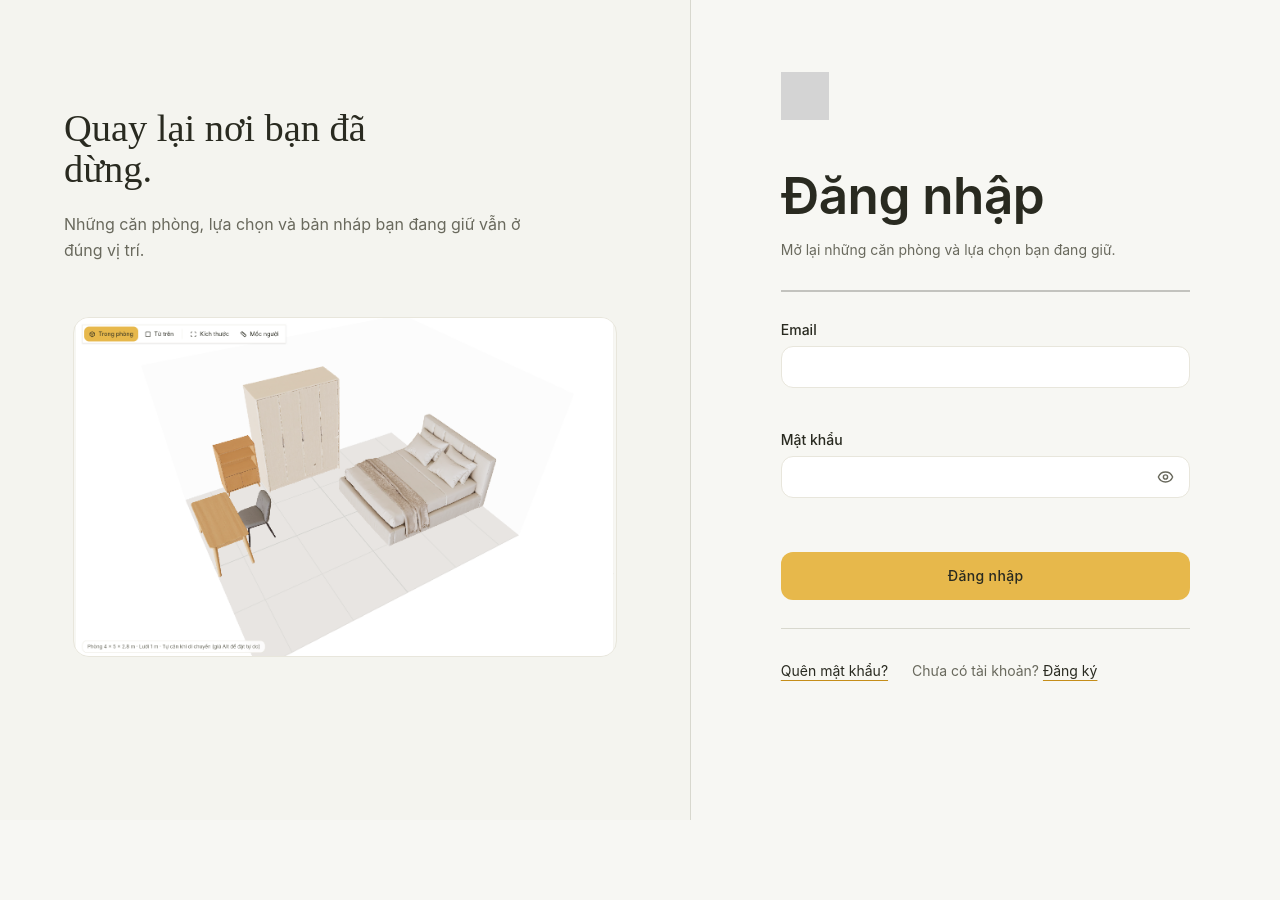
Test: LoginPage › shows a distinct message for wrong credentials (401)
Type "bao@example.com" into the field labelled "Email". click: (986, 367)
box: [781,346,1190,388]
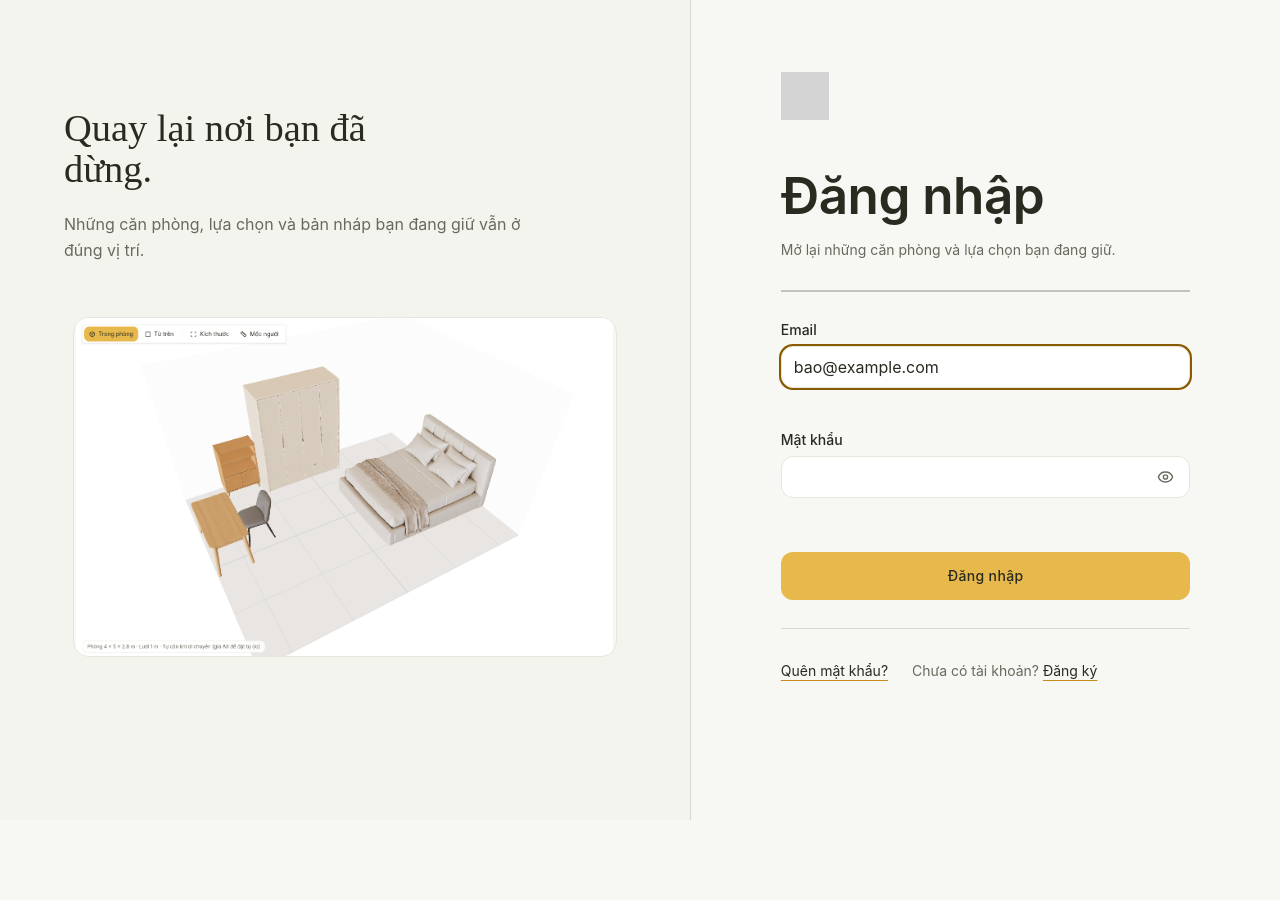
Type "wrongpass" into the password field labelled "Mật khẩu". click: (986, 477)
box: [781,456,1190,498]
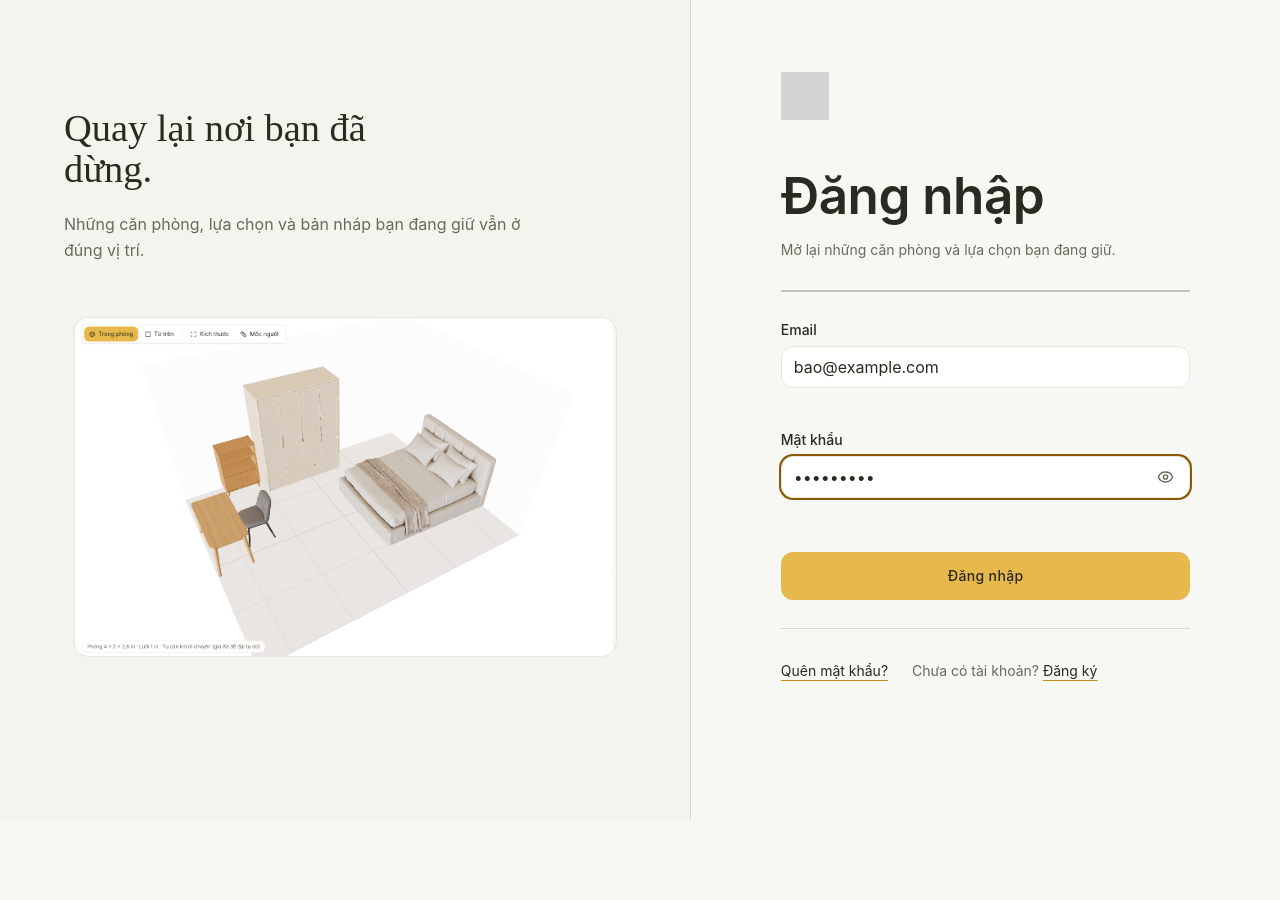
Click the button "Đăng nhập". click: (986, 576)
box: [781,552,1190,600]
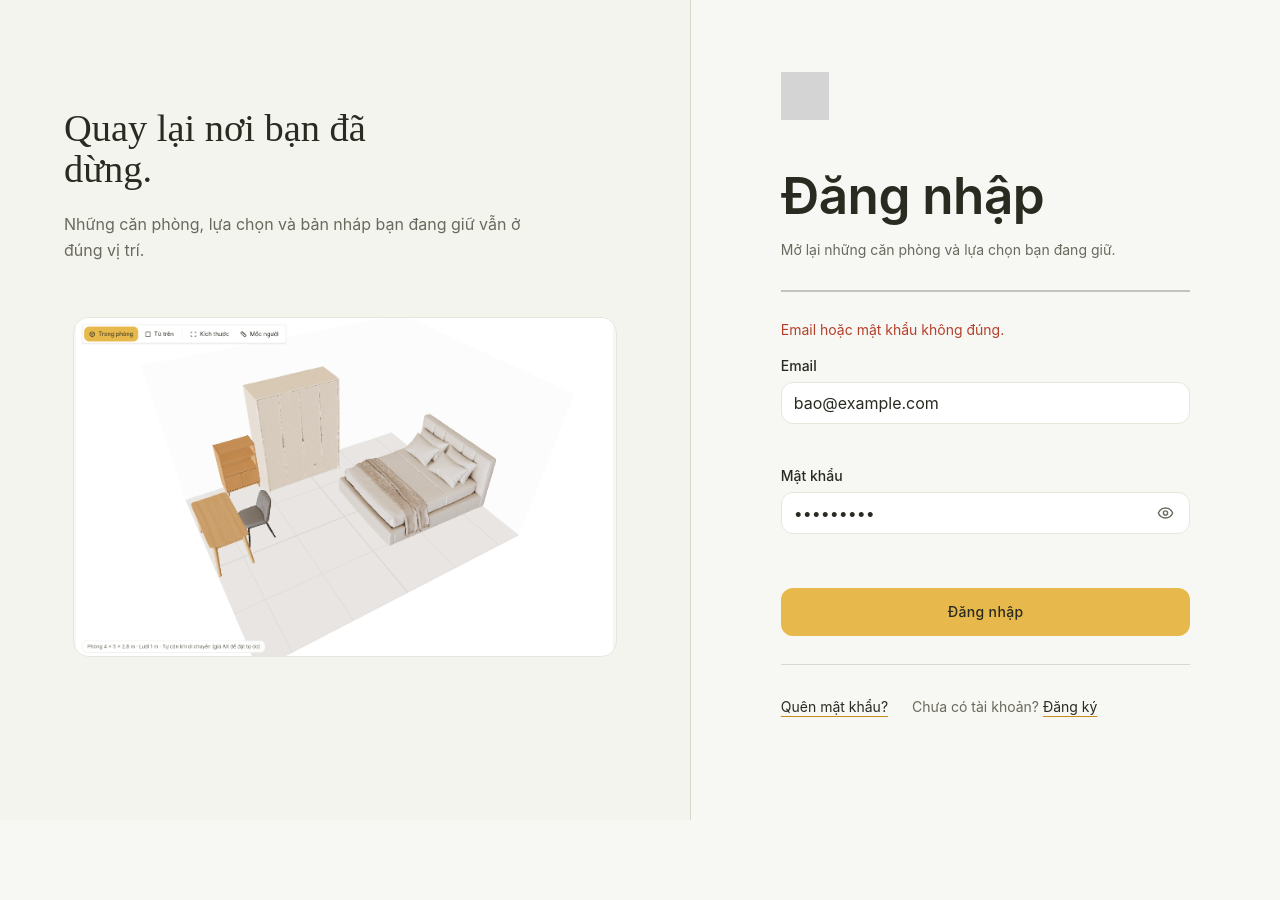
Expected: the text "Email hoặc mật khẩu không đúng." is shown, [781,321,1004,338]
